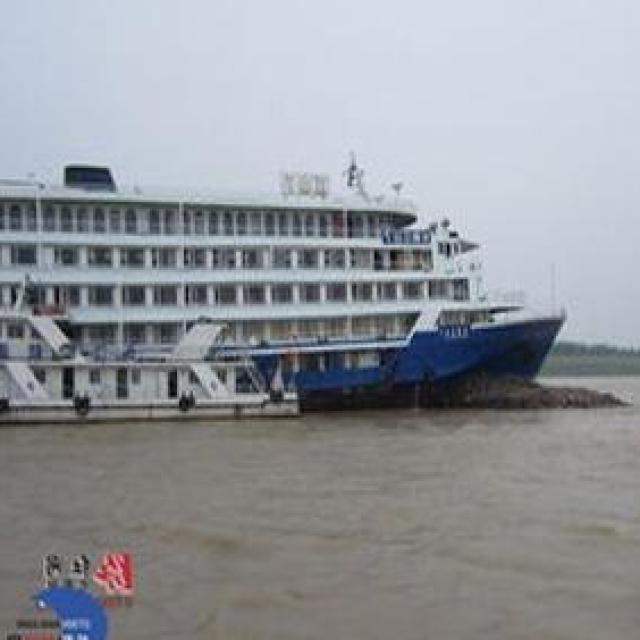passenger ship: (0, 166, 563, 422)
